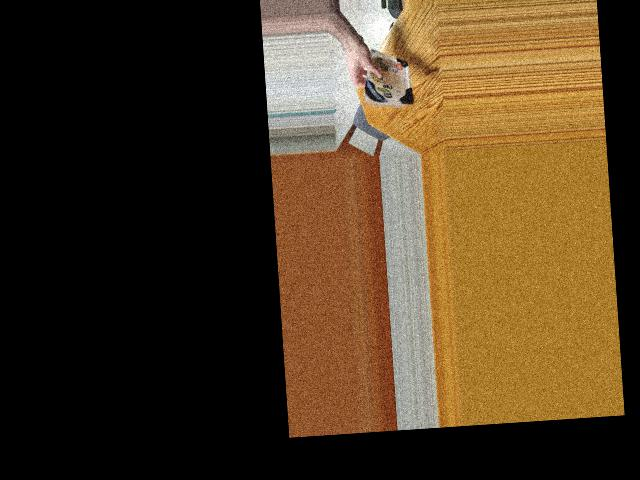cheese: (360, 57, 411, 112)
